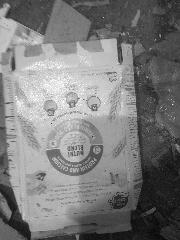paper: (5, 38, 143, 236)
